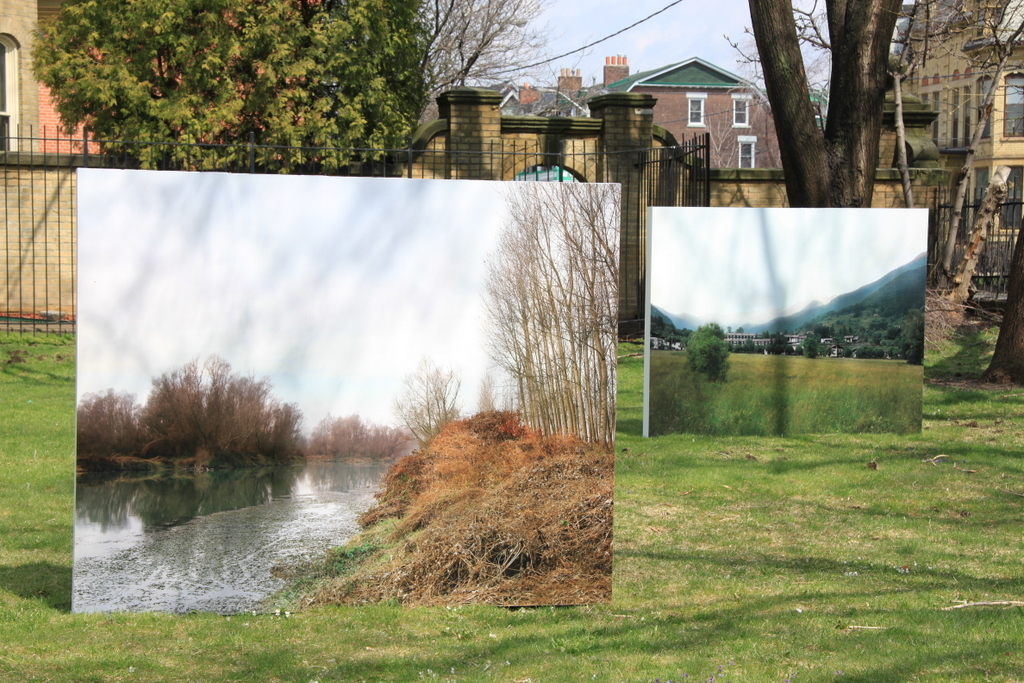Tree: (24, 0, 433, 176), (887, 0, 1022, 287), (478, 177, 615, 447), (743, 0, 906, 204), (67, 346, 311, 468), (412, 0, 551, 124), (977, 211, 1022, 388), (396, 354, 462, 454), (305, 405, 412, 457)
